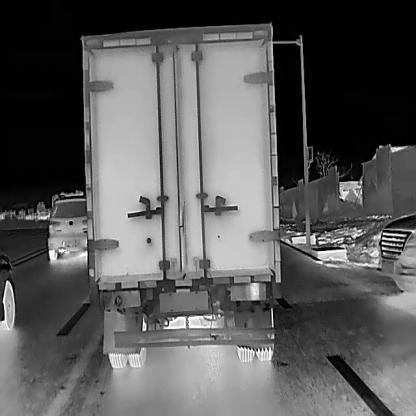car: (46, 194, 92, 261), (378, 212, 415, 294)
truck: (80, 20, 283, 369)
